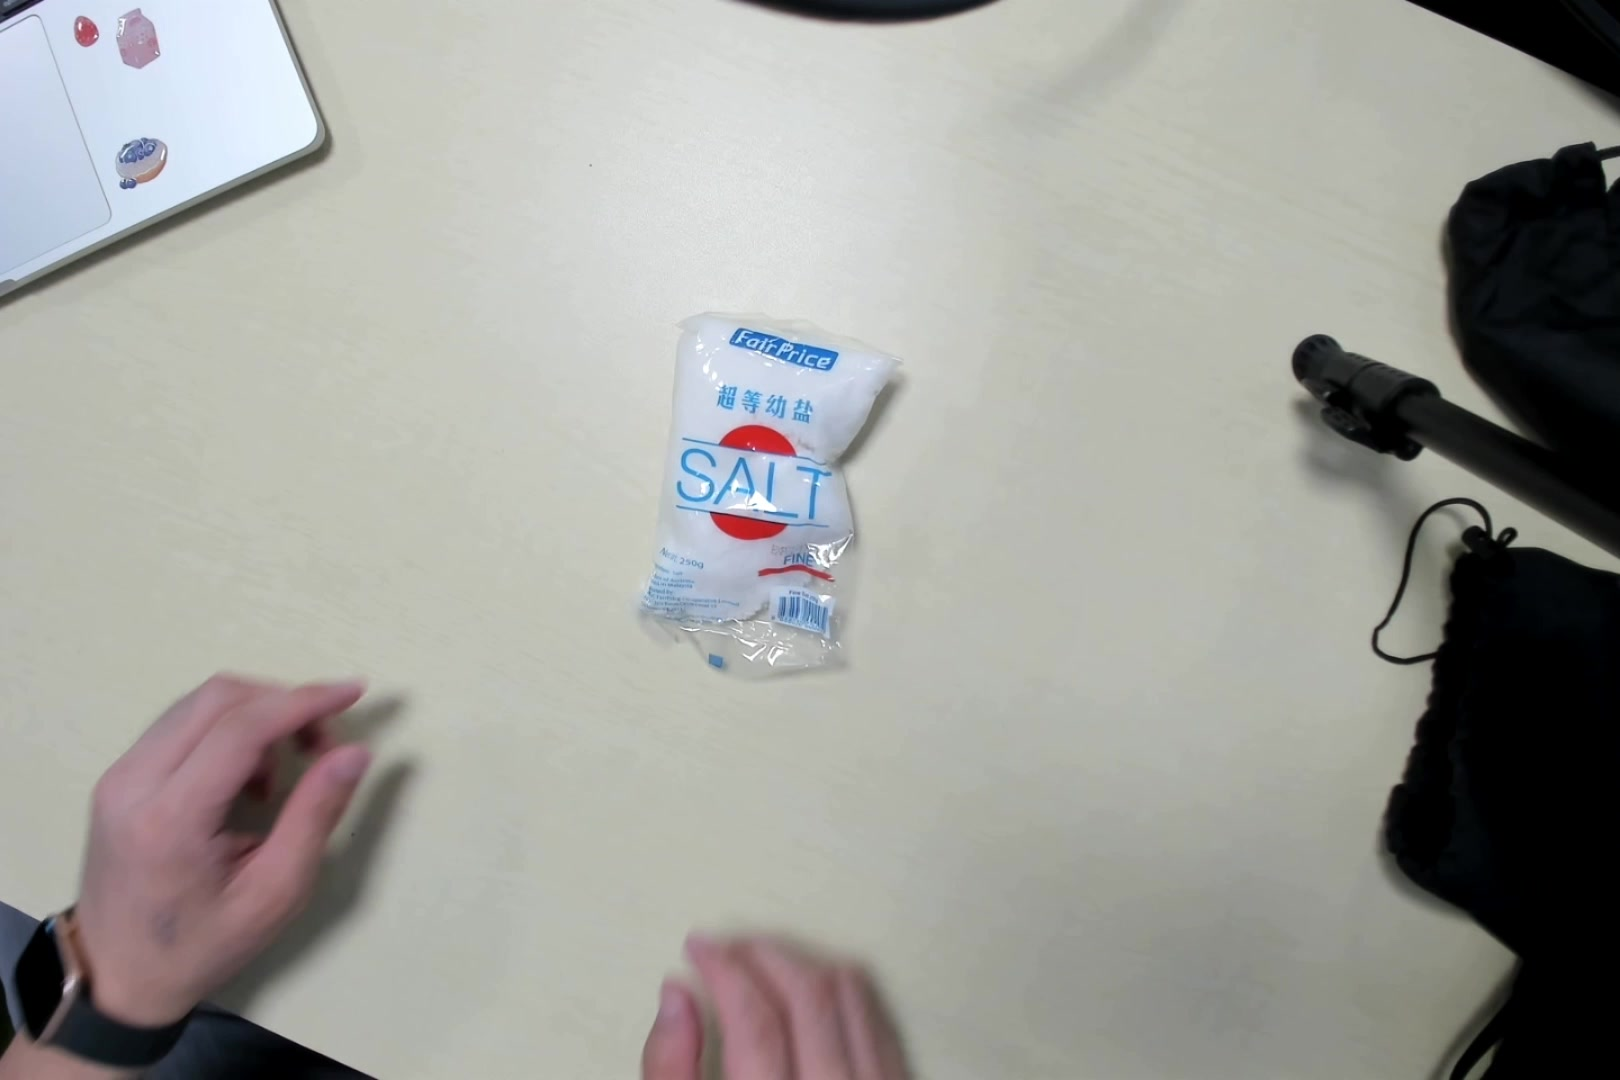Salt_200-299g_Halal_NonHealthy: (639, 311, 890, 679)
